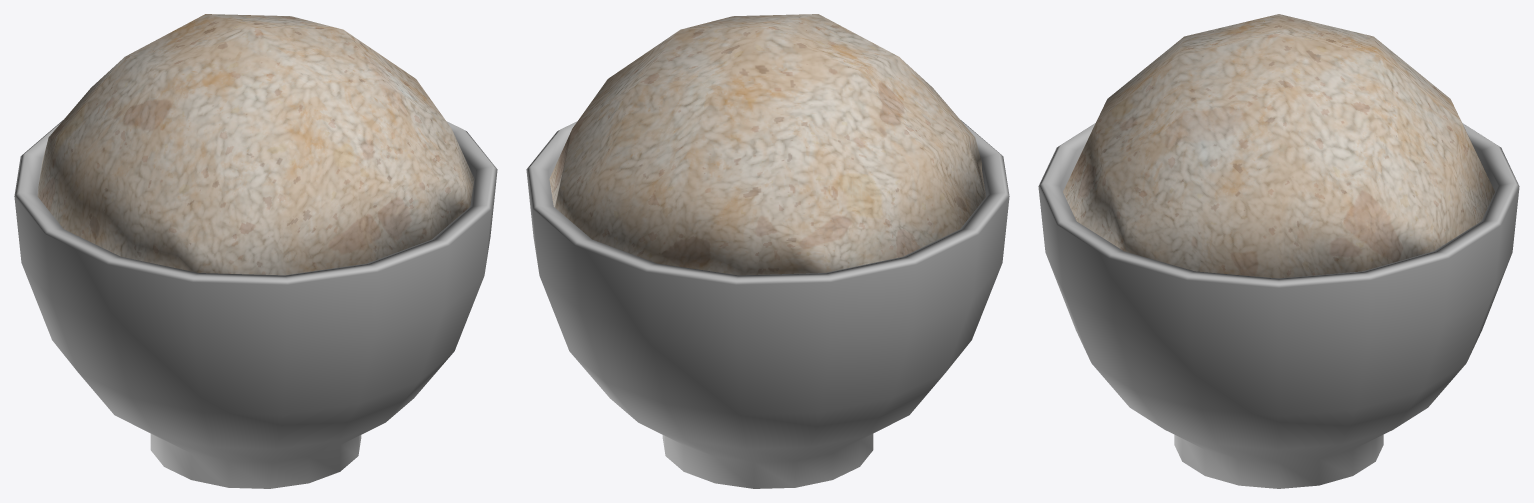
File: Rice.fbx
3 views of the same model, side by side, from view 1: azimuth 30°, elevation 25°; view 2: azimuth 150°, elevation 25°; view 3: azimuth 270°, elevation 25° (orthographic).
Visible parts, largest first — view 1: Rice; view 2: Rice; view 3: Rice.
Part boxes in pixels (<box>): Rice: <box>14,14,497,488</box>; Rice: <box>526,14,1009,488</box>; Rice: <box>1038,14,1519,488</box>.
Size of the model in its own units: 14.83 by 13.96 by 14.83.
Materials: 1 (1 with a texture image).
